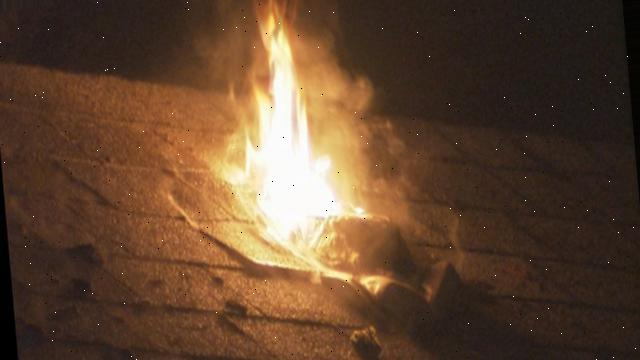fire: (225, 146, 341, 251), (230, 3, 307, 147)
smoke: (308, 5, 369, 145), (341, 146, 441, 220), (403, 221, 472, 276)
